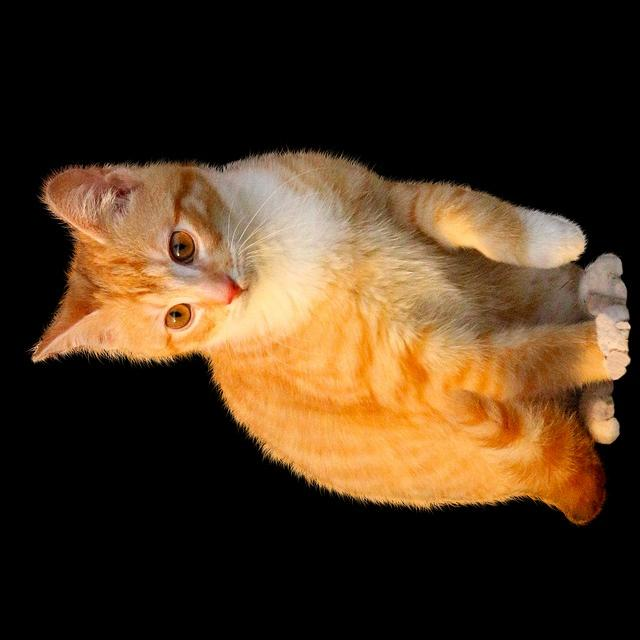cat: (28, 148, 631, 526)
